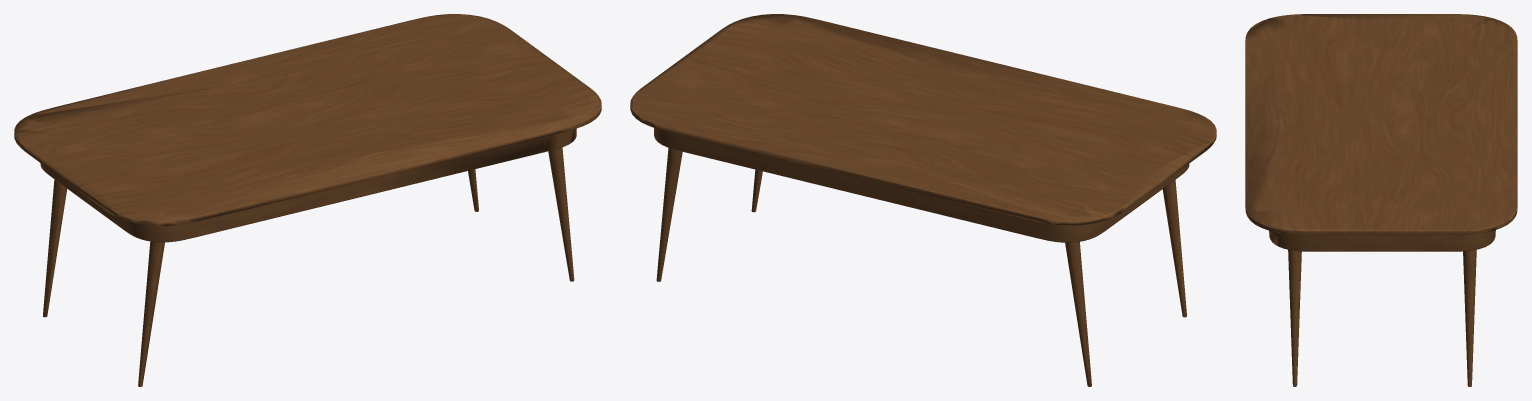
The model's file is ambu_solidwood_dining_table.glb.
3 views of the same model, side by side, from view 1: azimuth 30°, elevation 25°; view 2: azimuth 150°, elevation 25°; view 3: azimuth 270°, elevation 25° (orthographic). The views are drawn at different scales.
Parts seen in each view (by area): view 1: Ambu – Solidwood Dining Table; view 2: Ambu – Solidwood Dining Table; view 3: Ambu – Solidwood Dining Table.
Boxes of the visible parts, box(x1,y1,x2,y2) form: Ambu – Solidwood Dining Table: box(14, 14, 601, 386); Ambu – Solidwood Dining Table: box(630, 14, 1216, 386); Ambu – Solidwood Dining Table: box(1245, 14, 1517, 386).
Bounding box in the file's own units: 2.35 × 0.8399 × 1.25.
Materials: 1 (1 with a texture image).
